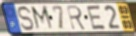2: (103, 5, 122, 31)
7: (51, 5, 65, 31)
E: (86, 4, 108, 30)
M: (29, 5, 55, 32)
R: (65, 5, 88, 31)
S: (18, 6, 36, 33)
